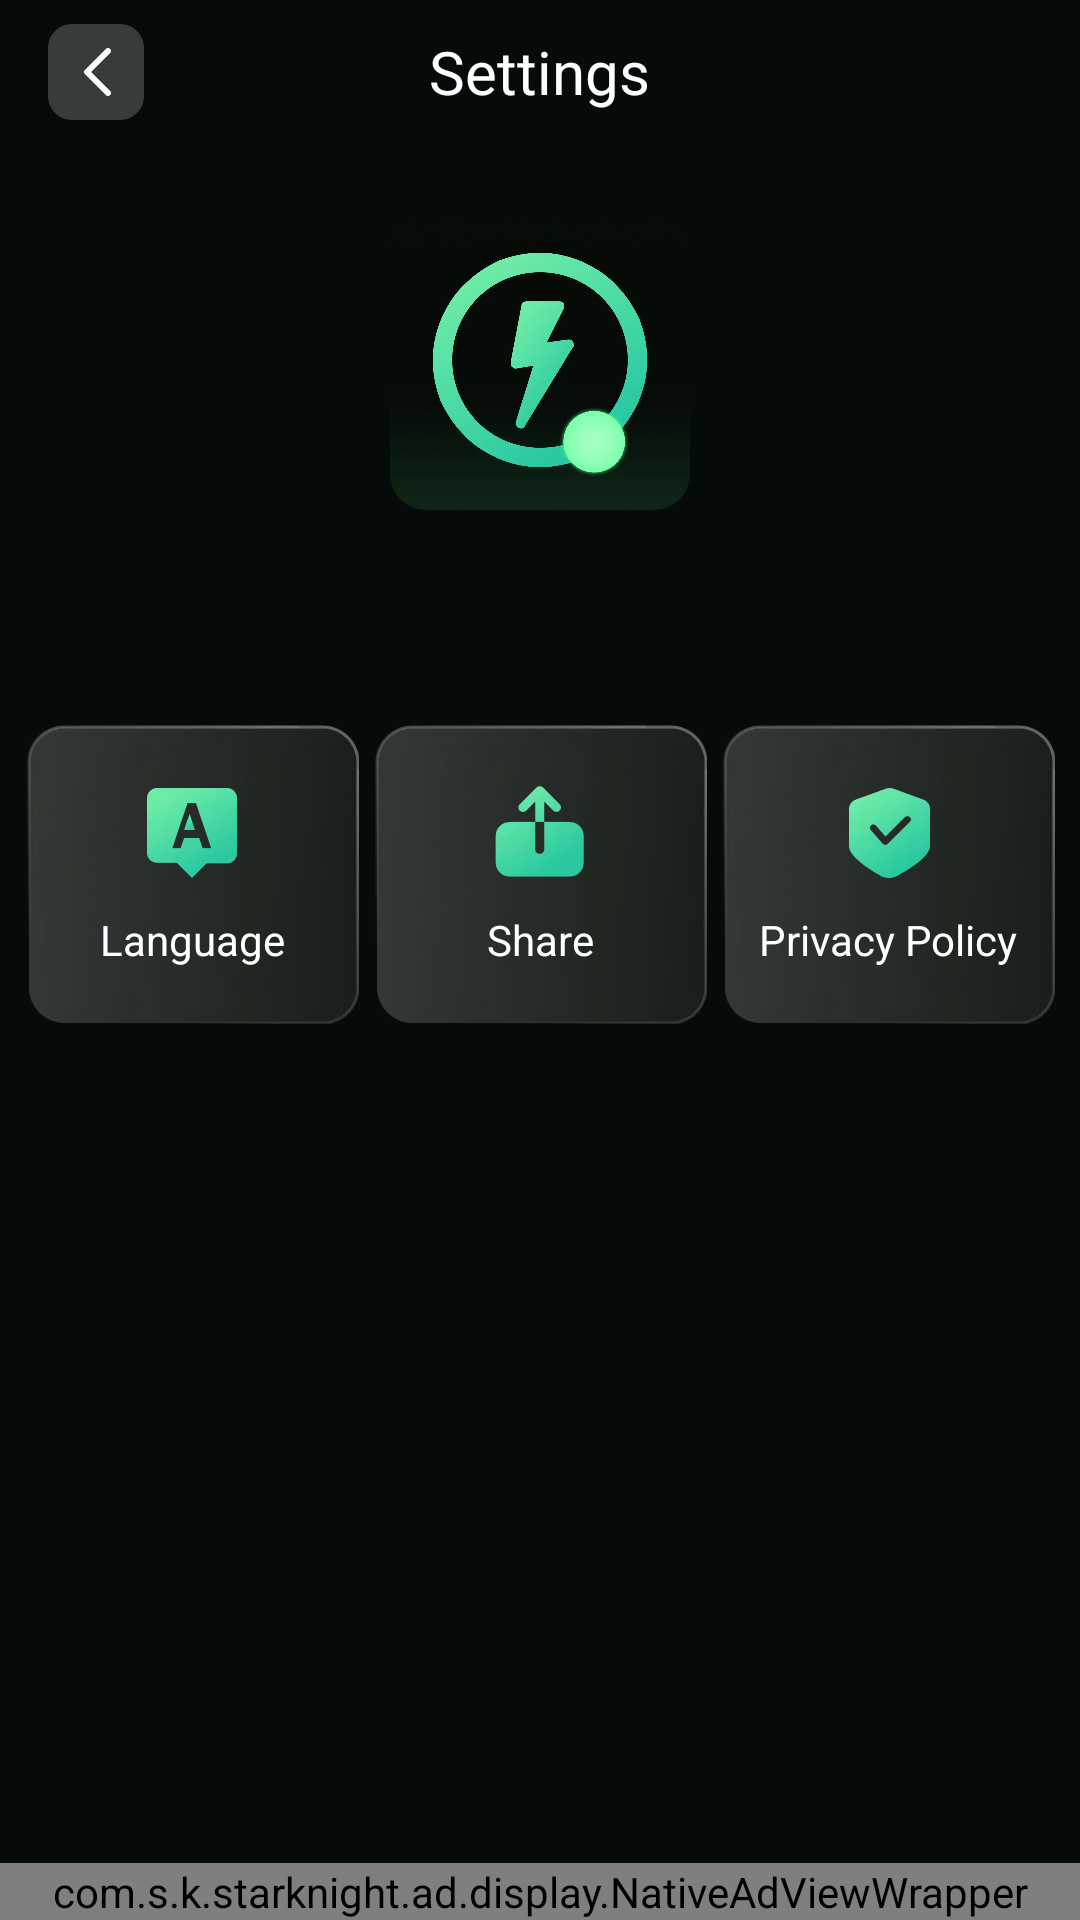

Icon click points for this 1080w x 1920h phone screenshot, format point (x, y):
back: point (96, 72)
lan: point (192, 833)
